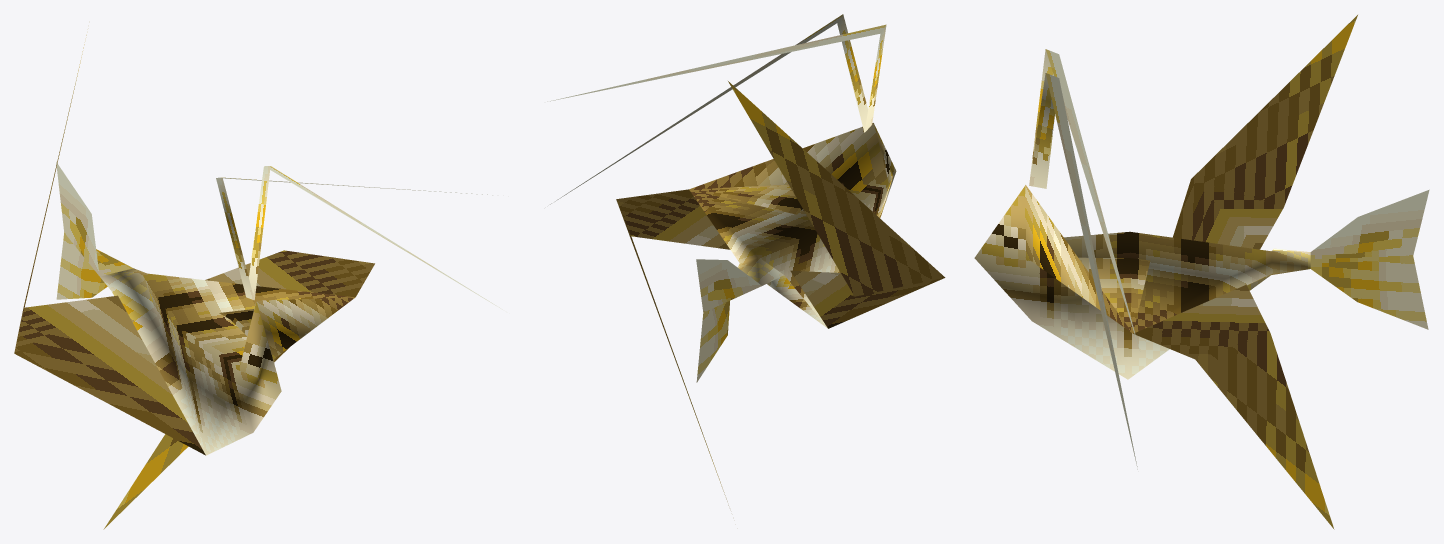
3 views of the same model, side by side, from view 1: azimuth 30°, elevation 25°; view 2: azimuth 150°, elevation 25°; view 3: azimuth 270°, elevation 25° (orthographic). The views are drawn at different scales.
Parts seen in each view (by area): view 1: 4803fish13_r; view 2: 4803fish13_r; view 3: 4803fish13_r.
Boxes of the visible parts, <box> form: 4803fish13_r: <box>14,35,502,529</box>; 4803fish13_r: <box>547,14,945,505</box>; 4803fish13_r: <box>974,15,1429,529</box>.
Size of the model in its own units: 1.22 by 1.25 by 1.
1 material, 1 textured.
